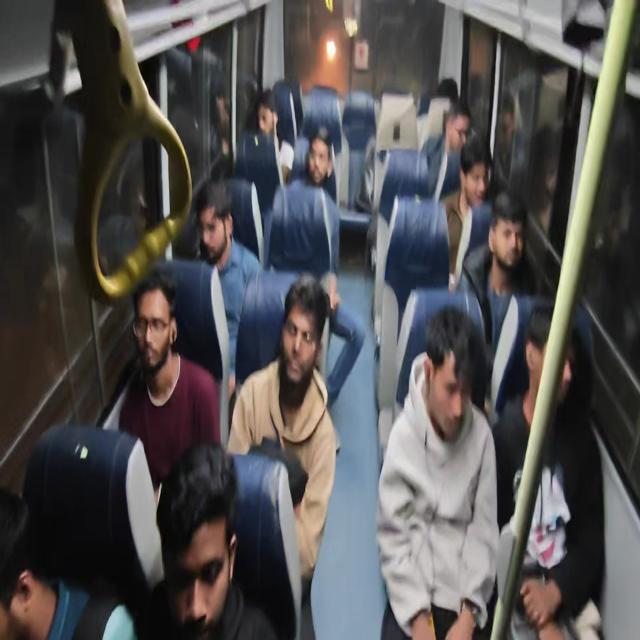person: (394, 340, 505, 518), (0, 479, 102, 640), (254, 266, 338, 424), (144, 510, 239, 640), (503, 328, 593, 462), (178, 156, 253, 297), (135, 260, 178, 382), (470, 187, 519, 264), (293, 124, 338, 207), (461, 142, 504, 225), (242, 80, 282, 148), (433, 78, 470, 130), (450, 102, 476, 160)
